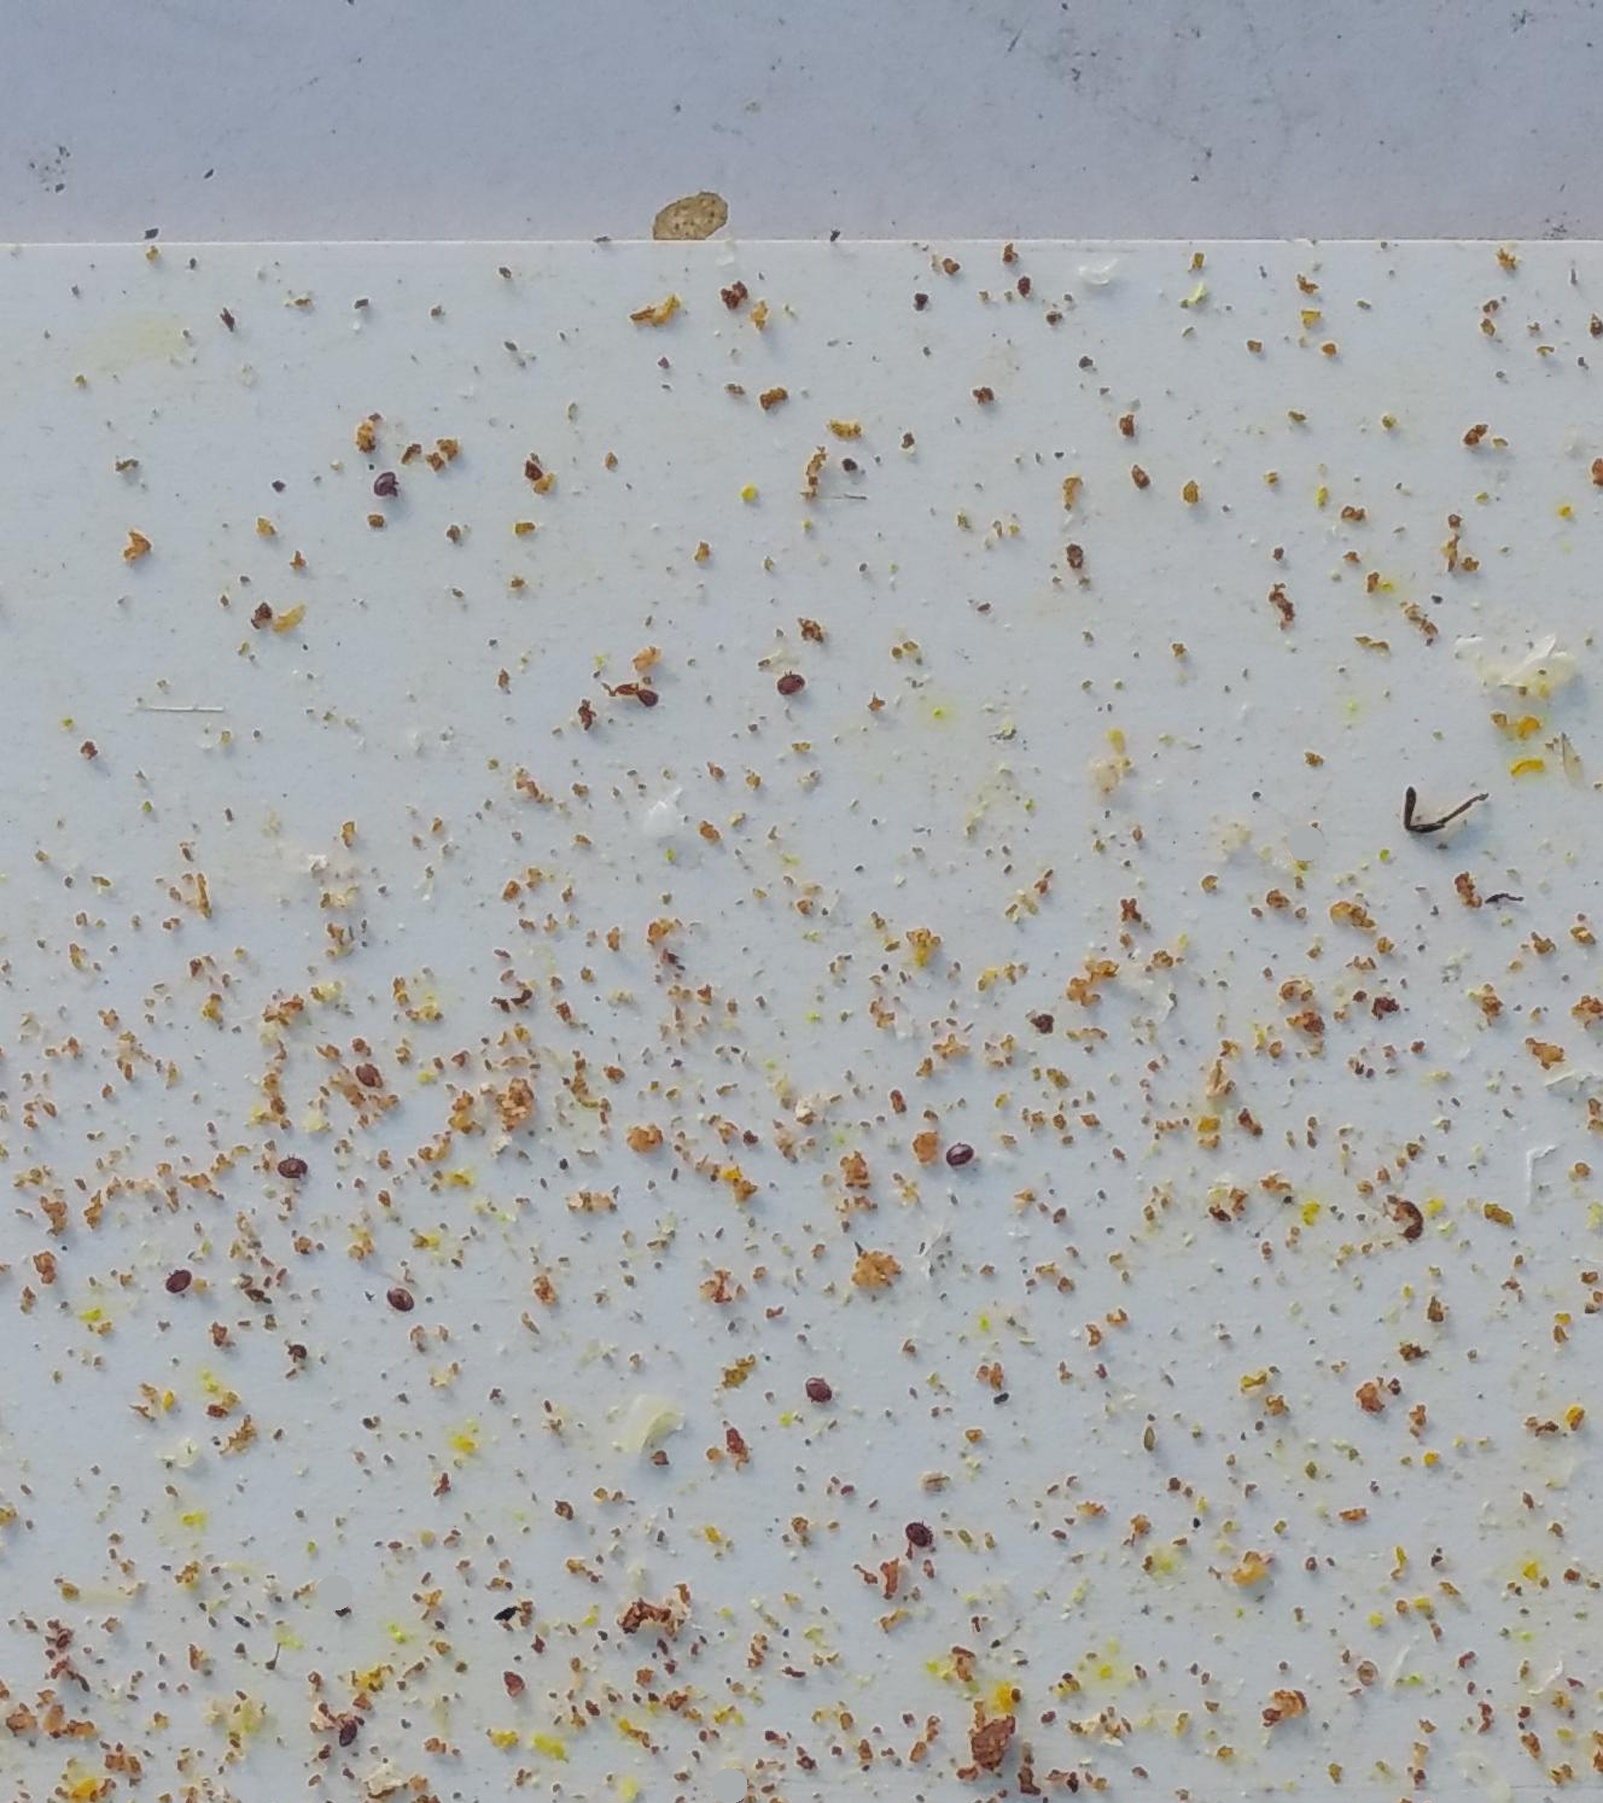Varroa: (326, 1719, 357, 1750), (381, 1280, 407, 1306), (162, 1272, 189, 1298), (798, 1374, 825, 1401), (942, 1134, 967, 1161), (354, 1057, 379, 1083), (374, 470, 402, 494), (781, 679, 801, 706), (282, 1161, 302, 1184), (913, 1518, 933, 1540)
